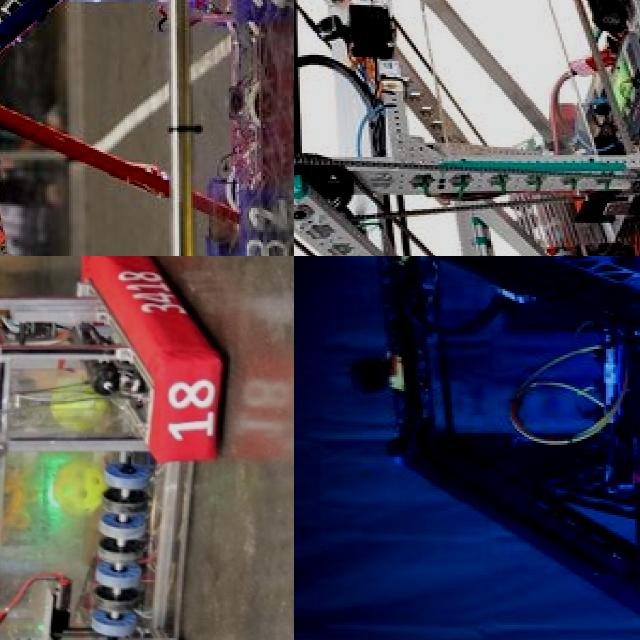FRC-Robots: (0, 256, 294, 640), (352, 256, 640, 640), (294, 0, 640, 256), (0, 0, 294, 256)
